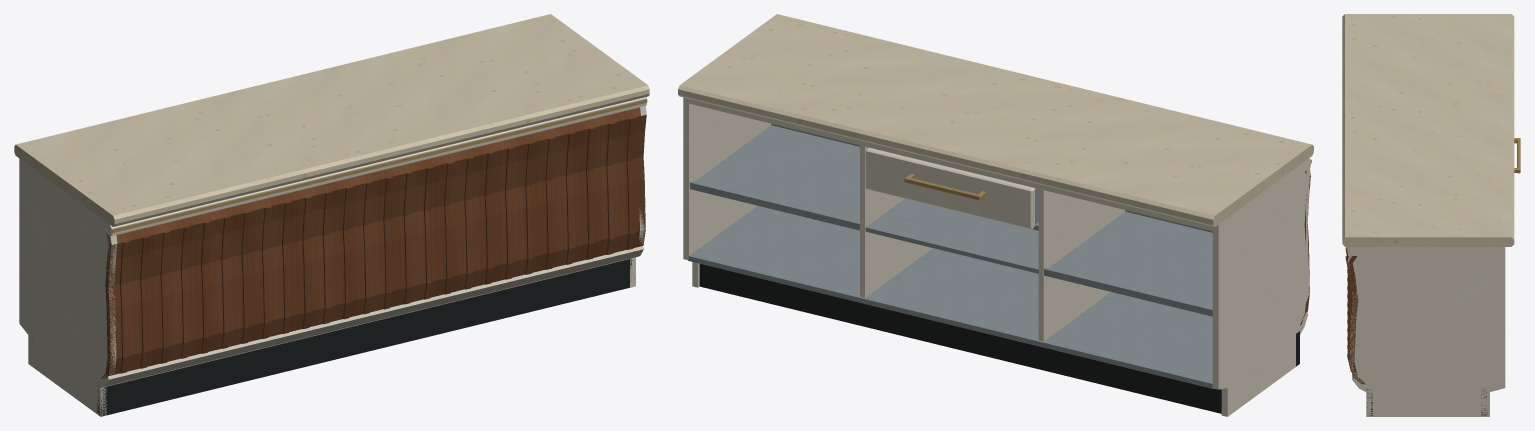
The model's file is AST-HSP-001.glb.
3 renders of one model, left to right at view 1: azimuth 30°, elevation 25°; view 2: azimuth 150°, elevation 25°; view 3: azimuth 270°, elevation 25°, orthographic. The views are drawn at different scales.
Visible parts, largest first — view 1: AST-HSP-001__static__warm_walnut, AST-HSP-001__static__warm_stone, AST-HSP-001__static__ivory_enamel, AST-HSP-001__static__dark_rubber, AST-HSP-001__static__champagne_metal; view 2: AST-HSP-001__static__warm_stone, AST-HSP-001__static__ivory_enamel, AST-HSP-001__static__staff_zinc, AST-HSP-001__static__dark_rubber, AST-HSP-001__right_removable_shelf__staff_zinc, AST-HSP-001__left_removable_shelf__staff_zinc, AST-HSP-001__proposed_linen_drawer__ivory_enamel, AST-HSP-001__centre_removable_shelf__staff_zinc; view 3: AST-HSP-001__static__warm_stone, AST-HSP-001__static__ivory_enamel, AST-HSP-001__static__warm_walnut.
Part boxes in pixels (x1=…): AST-HSP-001__static__warm_walnut: x1=101, y1=108, x2=646, y2=380; AST-HSP-001__static__warm_stone: x1=14, y1=14, x2=649, y2=226; AST-HSP-001__static__ivory_enamel: x1=19, y1=97, x2=646, y2=416; AST-HSP-001__static__dark_rubber: x1=33, y1=258, x2=633, y2=416; AST-HSP-001__static__champagne_metal: x1=112, y1=99, x2=647, y2=233; AST-HSP-001__static__warm_stone: x1=678, y1=14, x2=1313, y2=226; AST-HSP-001__static__ivory_enamel: x1=683, y1=97, x2=1310, y2=416; AST-HSP-001__static__staff_zinc: x1=688, y1=206, x2=1213, y2=388; AST-HSP-001__static__dark_rubber: x1=699, y1=264, x2=1299, y2=413; AST-HSP-001__right_removable_shelf__staff_zinc: x1=690, y1=124, x2=859, y2=230; AST-HSP-001__left_removable_shelf__staff_zinc: x1=1044, y1=210, x2=1212, y2=316; AST-HSP-001__proposed_linen_drawer__ivory_enamel: x1=865, y1=147, x2=1034, y2=229; AST-HSP-001__centre_removable_shelf__staff_zinc: x1=865, y1=198, x2=1038, y2=273; AST-HSP-001__static__warm_stone: x1=1342, y1=14, x2=1514, y2=246; AST-HSP-001__static__ivory_enamel: x1=1347, y1=247, x2=1505, y2=416; AST-HSP-001__static__warm_walnut: x1=1345, y1=247, x2=1366, y2=384.
Bounding box in the file's own units: 2.4 × 0.9 × 0.809.
6 materials, 6 textured.
